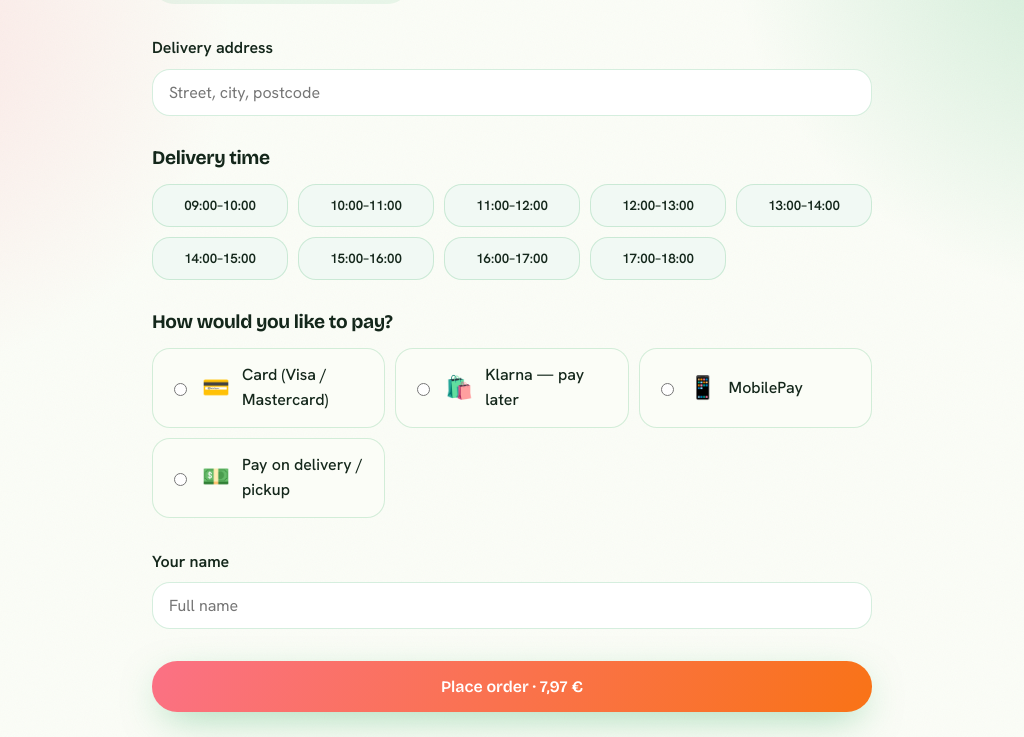
Test case: CheckoutForm › validates required fields before placing the order
(page scrolled)
Click the button "Place order · 7,97 €": (512, 687) [152,661,872,712]
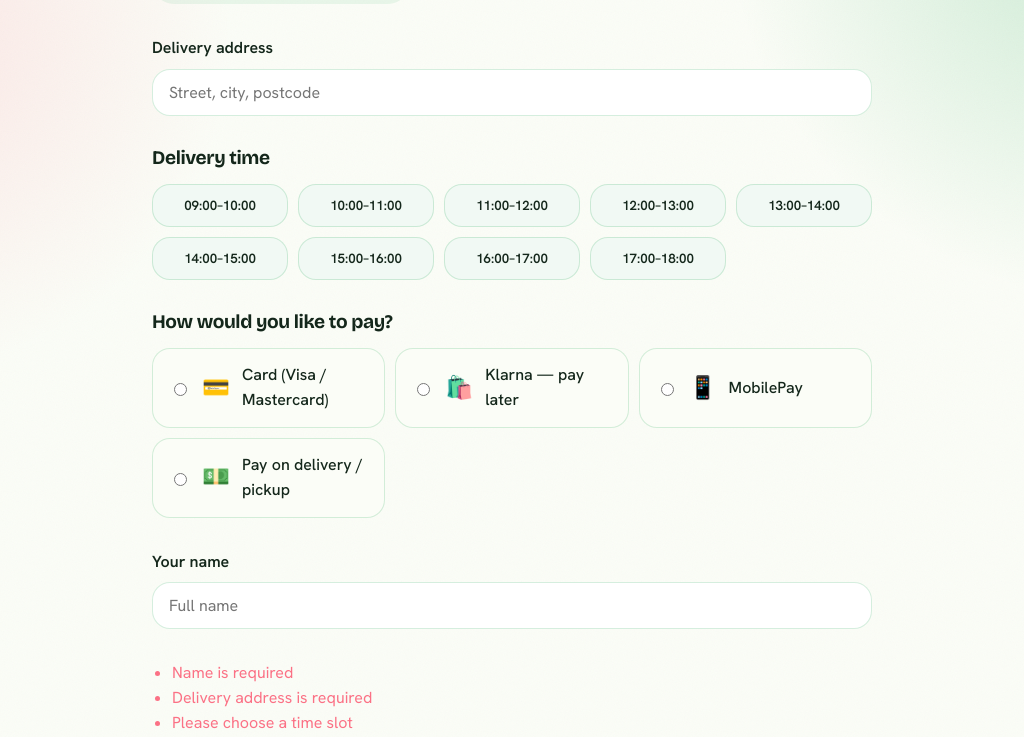
Expected: the list item "Name is required" is shown, [172,662,293,683]
Expected: the list item "Please choose a time slot" is shown, [172,712,353,733]
Expected: the list item "Delivery address is required" is shown, [172,687,372,708]
